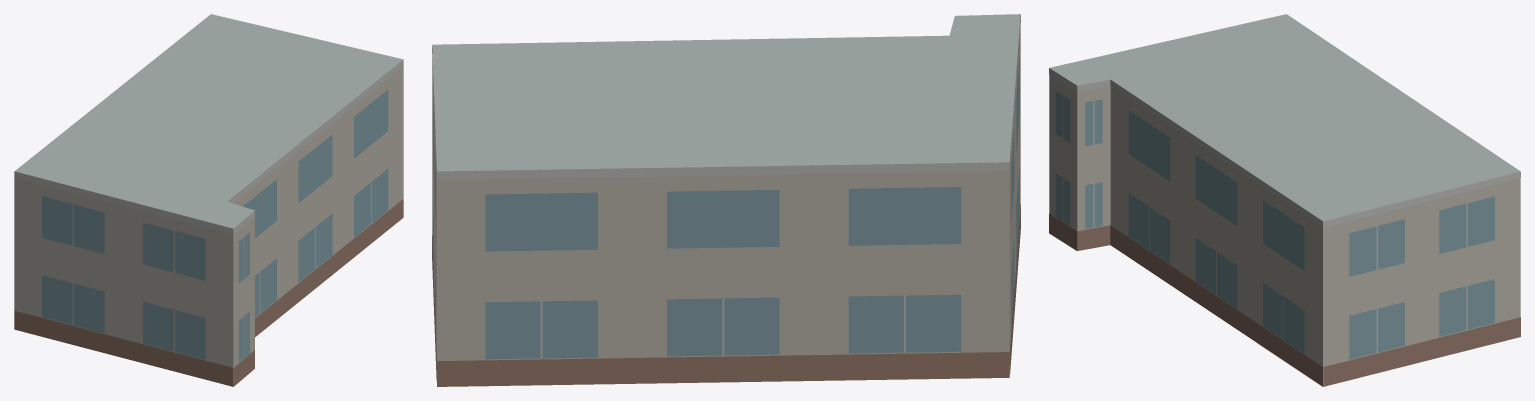
Rendered from survey-upis-32765378.glb.
3 renders of one model, left to right at view 1: azimuth 30°, elevation 25°; view 2: azimuth 150°, elevation 25°; view 3: azimuth 270°, elevation 25°, orthographic. The views are drawn at different scales.
Parts seen in each view (by area): view 1: survey-upis-32765378.tmp; view 2: survey-upis-32765378.tmp; view 3: survey-upis-32765378.tmp.
Boxes of the visible parts, left/top/right/bottom form: survey-upis-32765378.tmp: left=14, top=14, right=403, bottom=386; survey-upis-32765378.tmp: left=432, top=14, right=1020, bottom=386; survey-upis-32765378.tmp: left=1049, top=14, right=1520, bottom=386.
Size of the model in its own units: 16.41 by 6.1 by 15.77.
